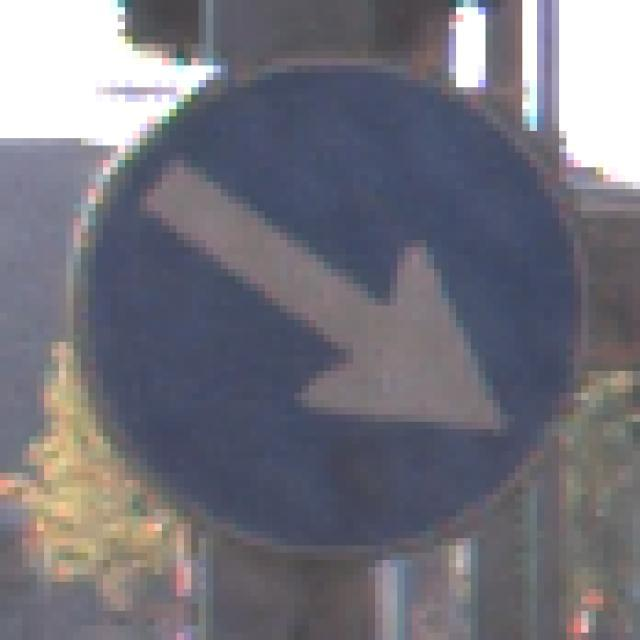compulsary keep right: (67, 63, 589, 552)
